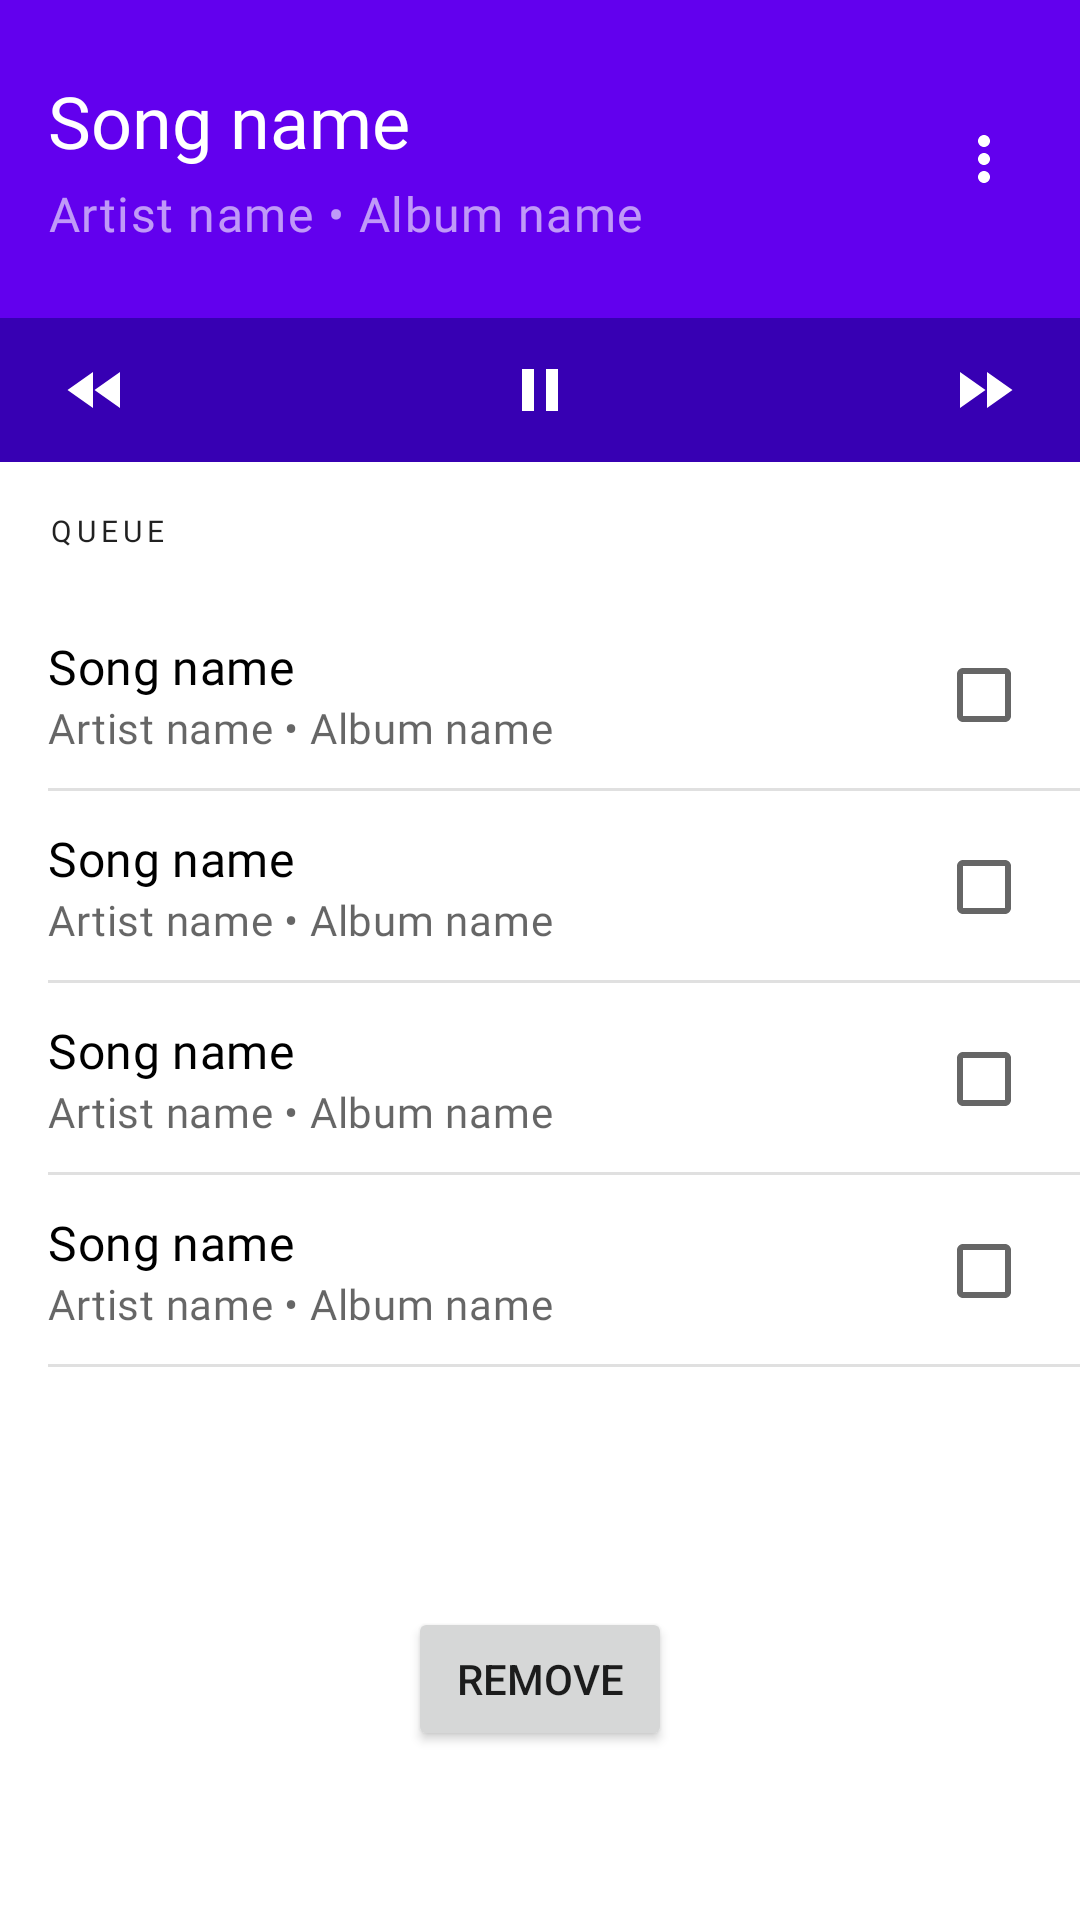

Icons on this 1080*1920 Android screen, each with its box as (x1, y1, x2, y2):
Forward: (960, 372, 1012, 408)
more: (978, 135, 990, 183)
pause: (522, 369, 558, 411)
Rewind: (68, 372, 120, 408)
